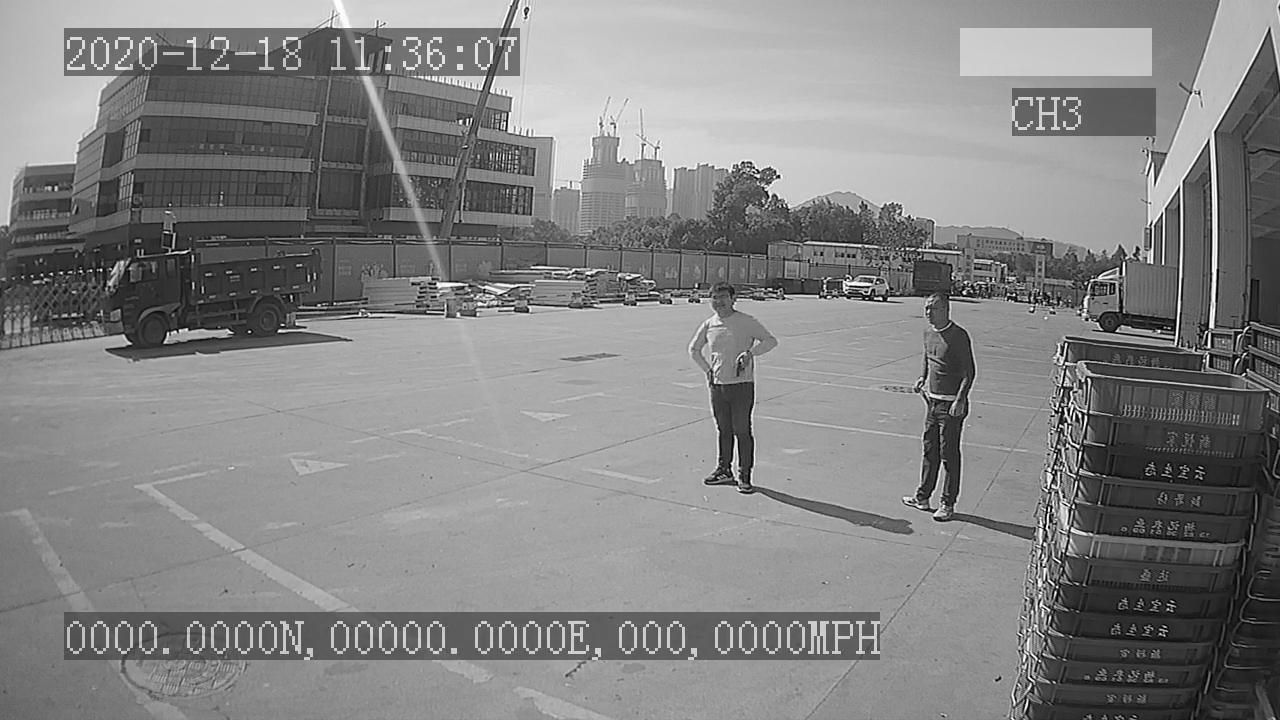person: (684, 279, 780, 497), (902, 289, 970, 523)
